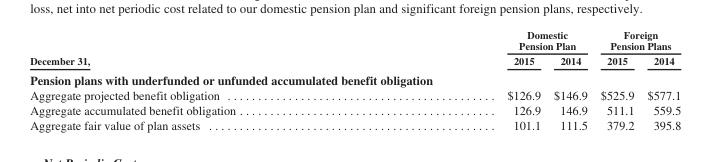table: (29, 28, 680, 131)
table column: (29, 28, 370, 131), (370, 28, 546, 131), (546, 28, 593, 131), (593, 28, 640, 131), (640, 28, 680, 131)
table column header: (29, 28, 680, 69)
table projected row header: (29, 69, 680, 87)
table row: (29, 28, 680, 52), (29, 69, 680, 87), (29, 52, 680, 69), (29, 87, 680, 102), (29, 102, 680, 117), (29, 117, 680, 131)
table spanning cell: (29, 28, 370, 69), (370, 28, 593, 52), (593, 28, 680, 52)
